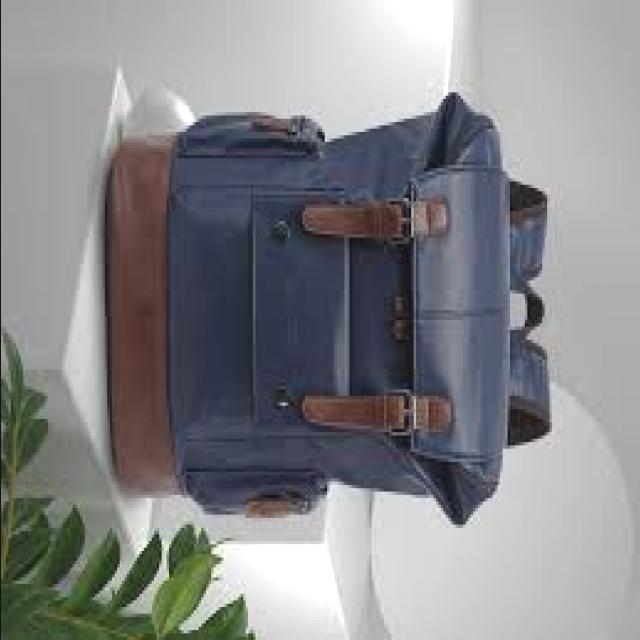backpack: (107, 90, 555, 526)
